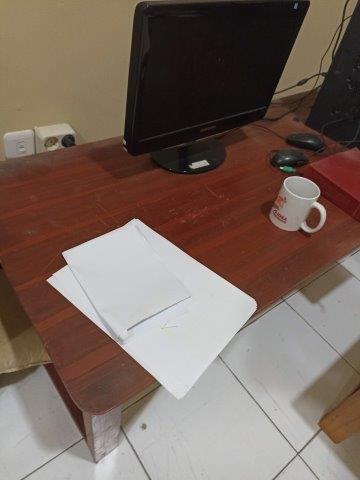kertas: (46, 218, 257, 399)
